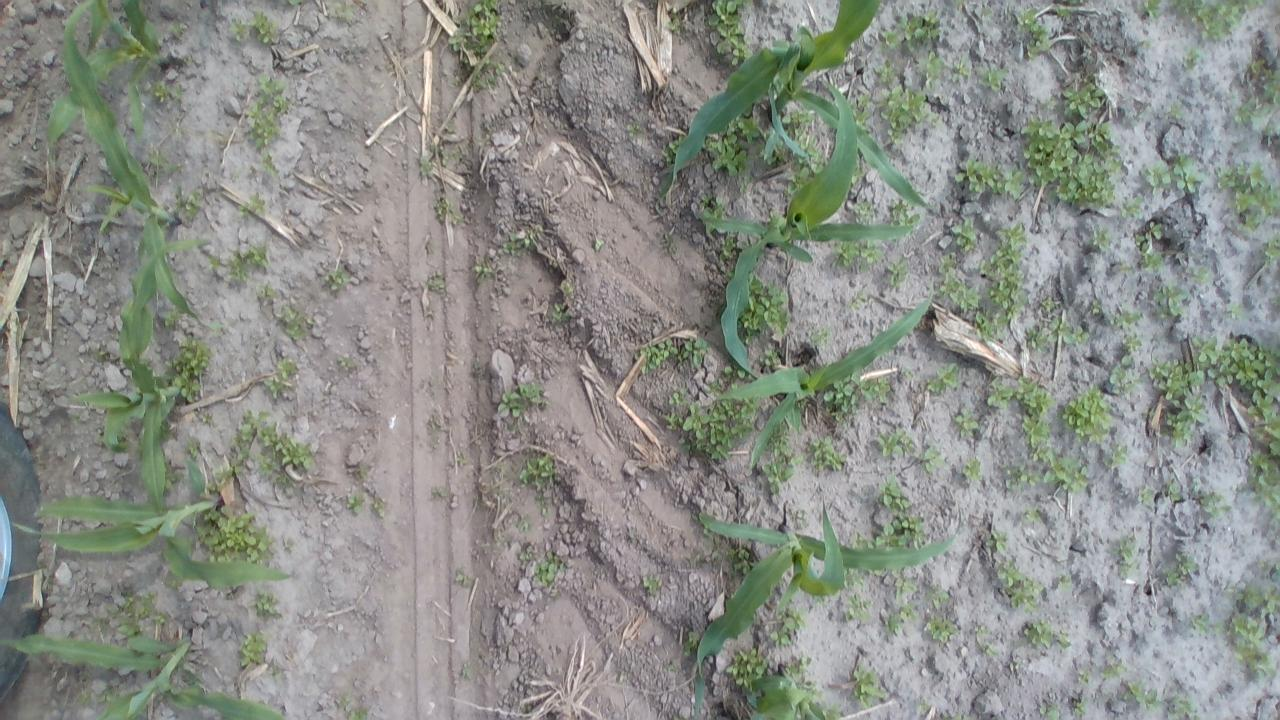Maize: (704, 77, 916, 376), (664, 1, 930, 222), (693, 500, 962, 716), (63, 3, 213, 330), (711, 279, 936, 474), (9, 458, 289, 586), (71, 239, 185, 514), (1, 631, 290, 720), (46, 0, 172, 151), (744, 662, 829, 720)
Weeds: (1018, 112, 1118, 206), (1195, 334, 1280, 430), (232, 410, 312, 485), (1150, 351, 1209, 440), (682, 399, 756, 463), (1216, 163, 1280, 232), (1176, 0, 1266, 44), (202, 510, 270, 564), (441, 0, 500, 62), (882, 86, 940, 144), (706, 0, 754, 69), (981, 222, 1018, 308), (1237, 59, 1280, 132), (1247, 427, 1280, 521), (164, 337, 210, 404), (1065, 384, 1114, 442), (746, 279, 791, 342), (952, 157, 1018, 198), (845, 515, 926, 548), (246, 95, 291, 148), (994, 560, 1042, 608), (939, 255, 980, 311), (990, 380, 1055, 415), (1042, 450, 1090, 493), (883, 8, 940, 44), (1112, 311, 1148, 365), (707, 132, 749, 176), (1060, 82, 1106, 120), (827, 376, 873, 414), (1021, 616, 1070, 650), (847, 661, 883, 707), (498, 383, 544, 419), (227, 242, 270, 280), (1018, 8, 1051, 56), (876, 430, 920, 464), (806, 439, 846, 476), (1106, 355, 1143, 394), (1134, 222, 1164, 270), (729, 646, 765, 686), (449, 66, 504, 92), (758, 459, 795, 496), (1122, 682, 1158, 718), (641, 338, 677, 374), (881, 606, 917, 640), (1235, 584, 1280, 611), (1174, 152, 1202, 195), (1193, 489, 1232, 519), (275, 309, 315, 338), (236, 632, 268, 668), (1236, 644, 1274, 674), (878, 478, 914, 509), (924, 614, 959, 644), (518, 454, 550, 486), (1112, 538, 1137, 578), (1156, 286, 1189, 316), (920, 52, 944, 92), (952, 217, 981, 250), (889, 570, 918, 603), (1230, 610, 1264, 638), (929, 363, 957, 396), (1019, 418, 1049, 448), (848, 594, 878, 624), (976, 313, 1008, 341), (251, 12, 280, 42), (888, 198, 918, 226), (324, 264, 353, 292), (256, 74, 292, 96), (1183, 262, 1213, 288), (1058, 321, 1091, 344), (784, 605, 814, 630), (798, 130, 822, 161), (535, 554, 559, 584), (779, 108, 816, 127), (833, 241, 857, 270), (733, 118, 762, 142), (681, 338, 704, 368), (336, 698, 367, 720), (853, 96, 873, 130), (213, 456, 233, 490), (1120, 192, 1144, 220), (922, 446, 946, 474), (950, 411, 979, 433), (982, 68, 1007, 93), (250, 590, 274, 616), (774, 427, 794, 458), (1022, 326, 1050, 348), (176, 194, 197, 223), (864, 381, 894, 401), (232, 17, 252, 47), (263, 372, 287, 397), (1104, 443, 1130, 466), (1166, 694, 1194, 715), (732, 549, 752, 578), (886, 262, 910, 286), (810, 326, 832, 352), (642, 574, 664, 600), (502, 234, 530, 254), (790, 652, 816, 673), (860, 242, 884, 264), (1176, 555, 1200, 577), (154, 82, 176, 106), (1091, 224, 1111, 250), (256, 454, 276, 480), (262, 154, 282, 180), (1148, 165, 1170, 188), (1100, 662, 1128, 680), (160, 421, 182, 443), (277, 356, 297, 380), (770, 626, 794, 646), (661, 226, 677, 255), (930, 587, 950, 610), (952, 56, 972, 78), (874, 64, 896, 84), (1018, 466, 1038, 488), (1180, 52, 1202, 72), (1037, 293, 1059, 312), (963, 458, 982, 480), (148, 151, 170, 170), (1264, 236, 1280, 262), (1164, 477, 1182, 500), (1122, 332, 1142, 352), (852, 203, 874, 221), (120, 620, 142, 638), (1040, 702, 1062, 720), (259, 282, 277, 304), (1164, 102, 1186, 120), (662, 140, 678, 164), (661, 412, 680, 432), (1139, 485, 1157, 506), (521, 546, 535, 572), (434, 196, 448, 222), (1141, 0, 1160, 19), (758, 352, 780, 368), (1070, 694, 1086, 716), (824, 707, 851, 720), (721, 236, 736, 258), (1164, 570, 1182, 588), (455, 570, 473, 588), (844, 569, 861, 588), (1227, 302, 1243, 322), (166, 463, 182, 483), (348, 496, 364, 516), (667, 386, 687, 402), (684, 631, 698, 653), (338, 356, 356, 373), (187, 437, 201, 458), (1026, 510, 1044, 526), (161, 311, 177, 329), (250, 197, 268, 213), (373, 499, 386, 521), (993, 533, 1010, 549), (726, 366, 746, 379), (352, 461, 367, 478), (560, 282, 575, 298), (1190, 613, 1204, 630), (426, 272, 443, 286), (141, 591, 156, 606), (666, 20, 682, 34), (474, 264, 488, 280), (164, 574, 181, 586), (1056, 9, 1074, 20), (846, 299, 864, 310), (419, 156, 430, 174), (626, 124, 640, 138), (1078, 670, 1093, 683), (984, 640, 997, 655), (121, 596, 133, 612), (154, 613, 170, 625), (554, 303, 566, 319), (432, 485, 446, 498), (707, 550, 718, 566), (198, 410, 210, 424), (282, 540, 296, 552), (1058, 578, 1072, 590), (534, 486, 546, 500), (978, 7, 993, 18), (798, 511, 808, 527), (237, 206, 250, 218), (97, 346, 108, 360), (1091, 300, 1103, 312), (594, 238, 606, 250), (974, 622, 988, 632), (1030, 448, 1042, 459), (110, 605, 120, 618), (462, 662, 470, 678), (274, 476, 288, 485), (520, 520, 530, 532), (138, 606, 150, 616), (285, 0, 302, 7), (458, 457, 468, 468), (919, 699, 928, 710), (1213, 625, 1223, 634)
